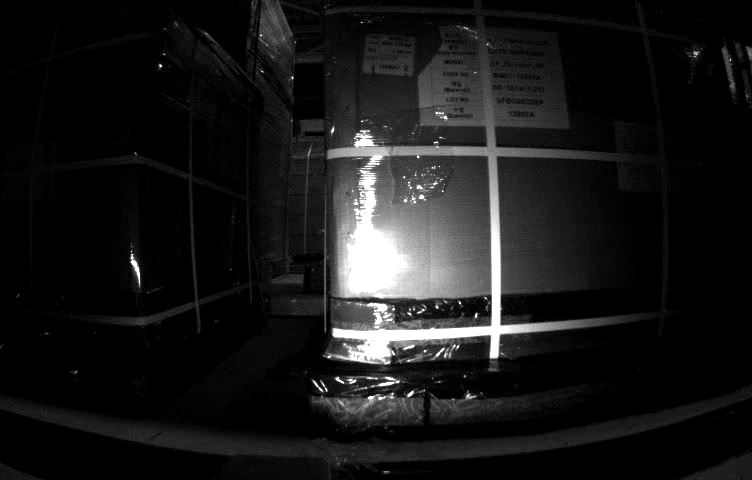True Barcode: (364, 34, 415, 74)
